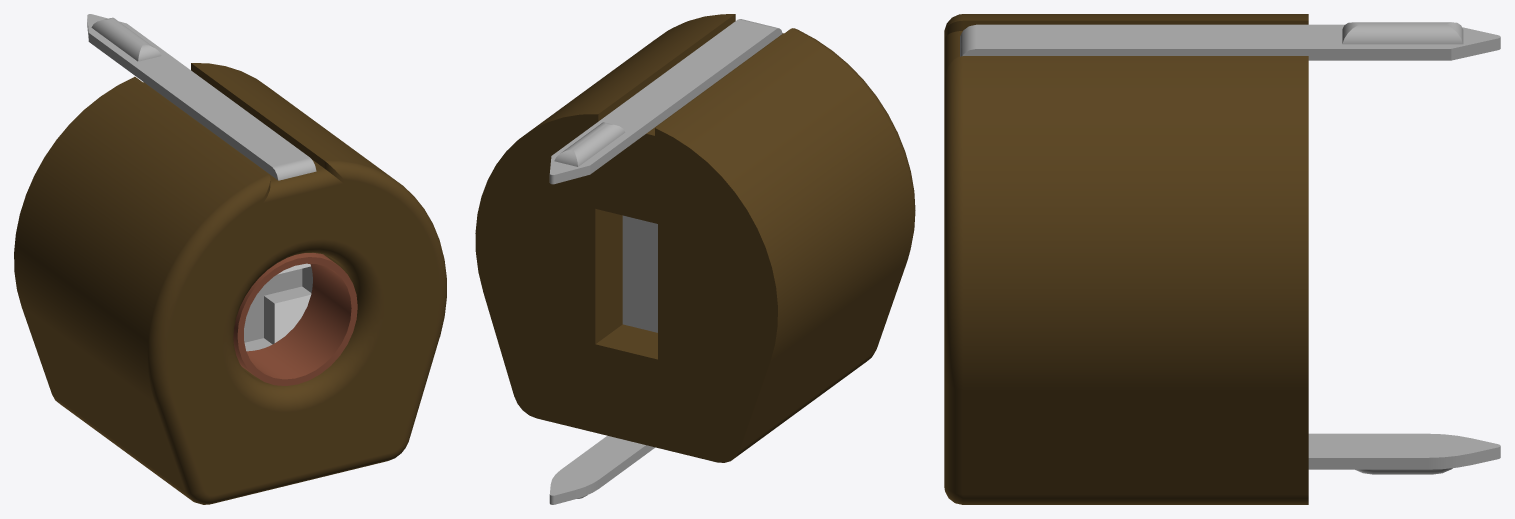
Rendered from Trimmer Cap - Brown - 60pf.obj.
3 renders of one model, left to right at view 1: azimuth 30°, elevation 25°; view 2: azimuth 150°, elevation 25°; view 3: azimuth 270°, elevation 25°, orthographic. The views are drawn at different scales.
Visible parts, largest first — view 1: Solid1; view 2: Solid1; view 3: Solid1.
Boxes of the visible parts, x1=… form: Solid1: x1=14, y1=14, x2=446, y2=504; Solid1: x1=475, y1=14, x2=915, y2=504; Solid1: x1=944, y1=14, x2=1500, y2=504.
Size of the model in its own units: 6.09 by 6.76 by 7.61.
